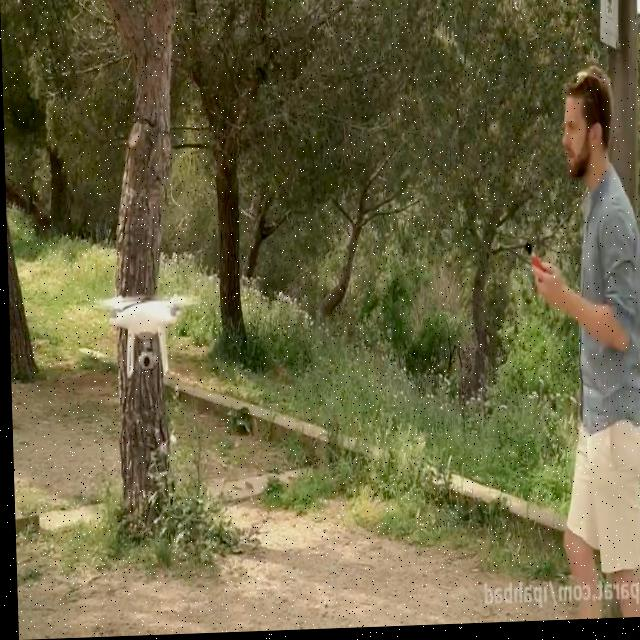drone: (93, 290, 199, 378)
